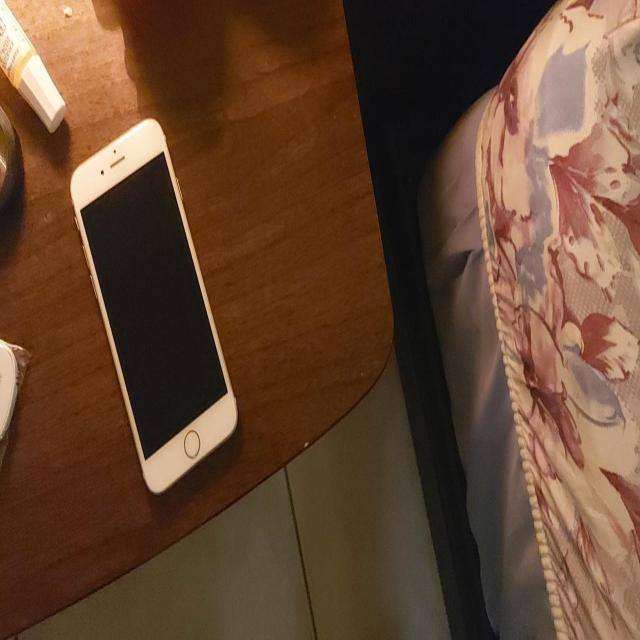Smartphone: (67, 100, 246, 517)
